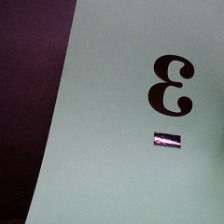green3: (144, 49, 200, 160)
